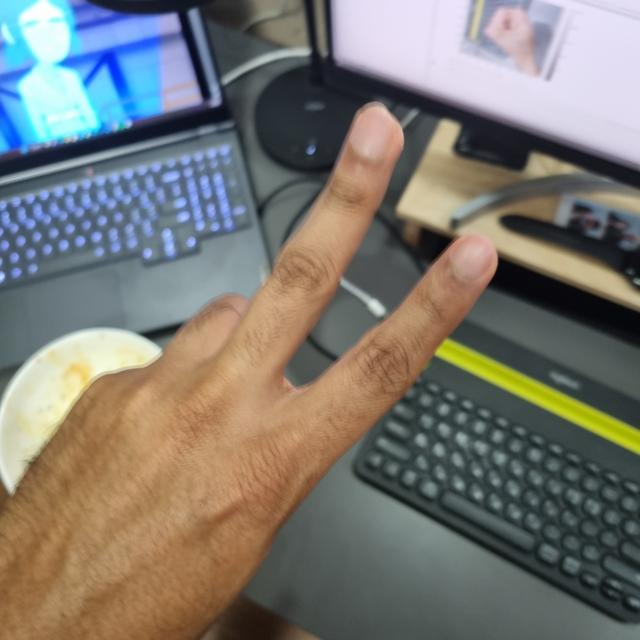Scissors: (0, 106, 503, 640)
